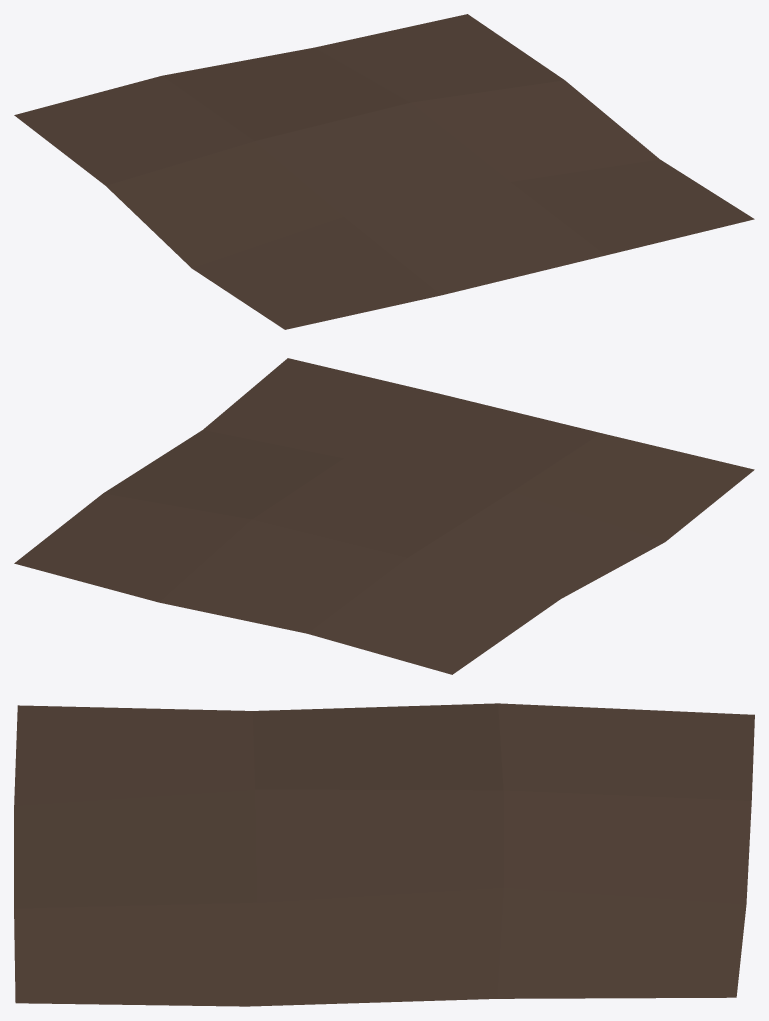
The model's file is Garden Ground Small.fbx.
The picture shows the model from 3 angles, top to bottom: view 1: azimuth 30°, elevation 25°; view 2: azimuth 150°, elevation 25°; view 3: azimuth 270°, elevation 25°; orthographic projection. The views are drawn at different scales.
Visible parts, largest first — view 1: Garden Ground Small.001; view 2: Garden Ground Small.001; view 3: Garden Ground Small.001.
Part boxes in pixels (bbox=[...]): Garden Ground Small.001: bbox=[14, 14, 754, 329]; Garden Ground Small.001: bbox=[14, 358, 754, 674]; Garden Ground Small.001: bbox=[14, 703, 754, 1006].
Bounding box in the file's own units: 120 × 128 × 4.87.
